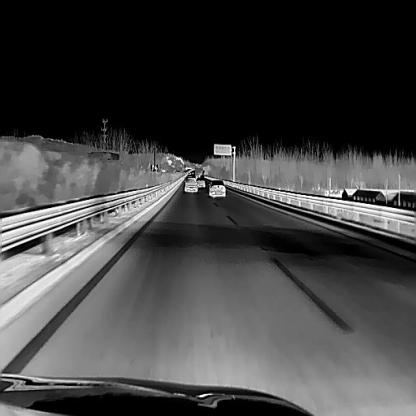car: (208, 178, 225, 197), (184, 176, 196, 191), (195, 176, 204, 187)
